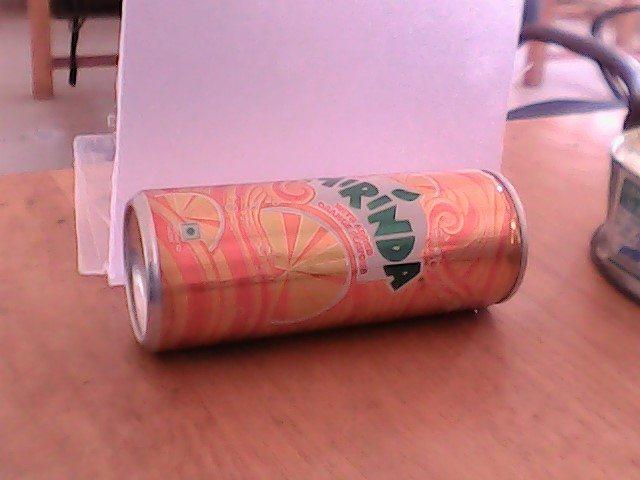Metal: (102, 184, 550, 317)
